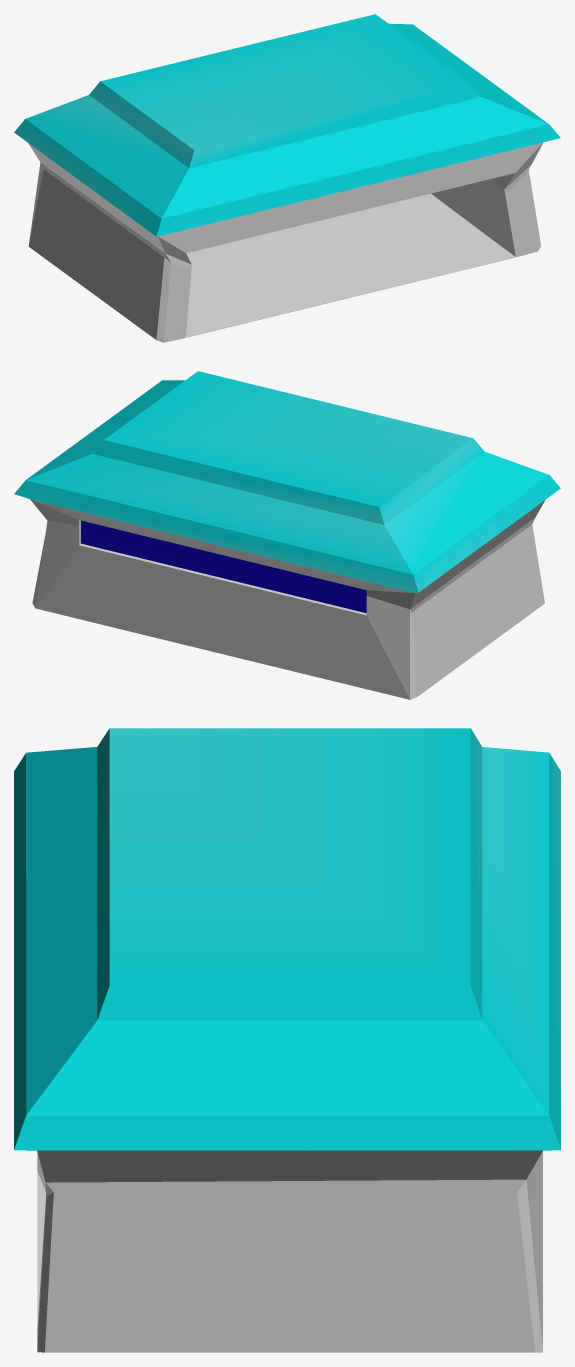
Rendered from Hangar.fbx.
3 renders of one model, top to bottom at view 1: azimuth 30°, elevation 25°; view 2: azimuth 150°, elevation 25°; view 3: azimuth 270°, elevation 25°, orthographic. The views are drawn at different scales.
Parts seen in each view (by area): view 1: Cube; view 2: Cube; view 3: Cube.
Part boxes in pixels (<box>): Cube: <box>14,14,560,342</box>; Cube: <box>14,371,560,699</box>; Cube: <box>14,728,560,1352</box>.
Bounding box in the file's own units: 39.27 × 15.51 × 23.97.
